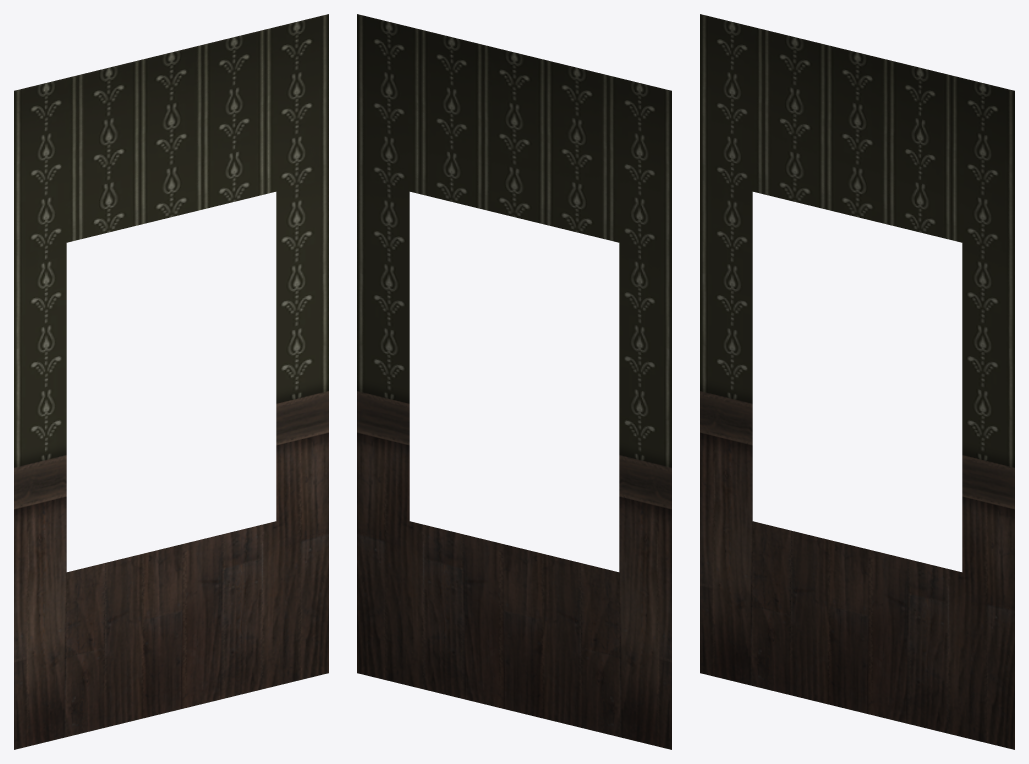
The model's file is Wall.WP_3x1.5_Window.fbx.
3 views of the same model, side by side, from view 1: azimuth 30°, elevation 25°; view 2: azimuth 150°, elevation 25°; view 3: azimuth 330°, elevation 25° (orthographic).
Parts seen in each view (by area): view 1: Wall.WP_3x1.5_Window; view 2: Wall.WP_3x1.5_Window; view 3: Wall.WP_3x1.5_Window.
Boxes of the visible parts, <box> form: Wall.WP_3x1.5_Window: <box>14,14,328,749</box>; Wall.WP_3x1.5_Window: <box>357,14,671,749</box>; Wall.WP_3x1.5_Window: <box>700,14,1014,749</box>.
Bounding box in the file's own units: 150 × 300 × 4.01e-05.
